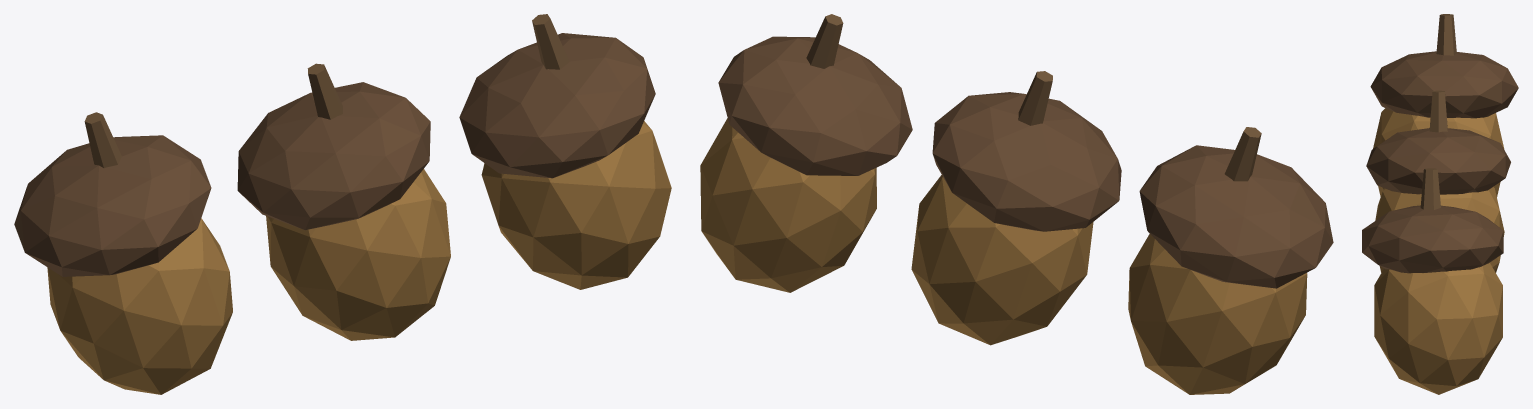
Rendered from pile-treeSeed-3.gltf.
The picture shows the model from 3 angles, left to right: view 1: azimuth 30°, elevation 25°; view 2: azimuth 150°, elevation 25°; view 3: azimuth 270°, elevation 25°; orthographic projection. The views are drawn at different scales.
Visible parts, largest first — view 1: pile-treeSeed-3; view 2: pile-treeSeed-3; view 3: pile-treeSeed-3.
Part boxes in pixels (left/top/right/bottom): pile-treeSeed-3: left=14, top=14, right=671, bottom=394; pile-treeSeed-3: left=700, top=14, right=1333, bottom=394; pile-treeSeed-3: left=1362, top=14, right=1518, bottom=394.
Bounding box in the file's own units: 0.7737 × 0.3302 × 0.2318.
